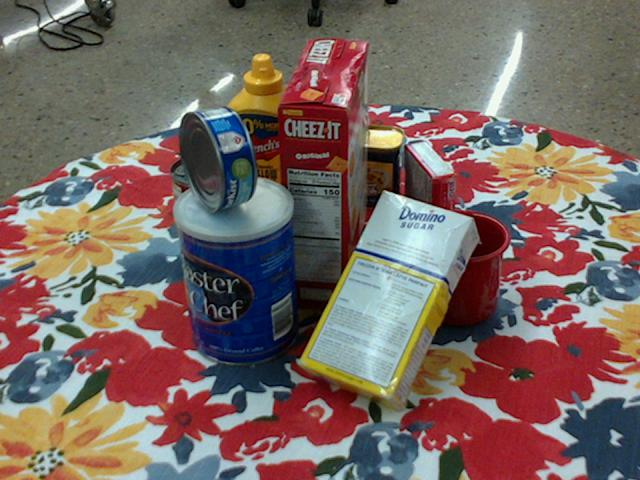cracker_box: (275, 40, 369, 311)
gelatin_box: (404, 140, 455, 235)
large_marker: (339, 77, 369, 128)
master_chef_can: (174, 177, 297, 369)
mug: (382, 208, 509, 326)
mustard_bottle: (221, 54, 314, 228)
potted_meat_can: (312, 122, 404, 210)
sugar_box: (298, 193, 478, 415)
tomato_soup_can: (170, 153, 243, 268)
tuna_fish_can: (178, 106, 257, 212)
